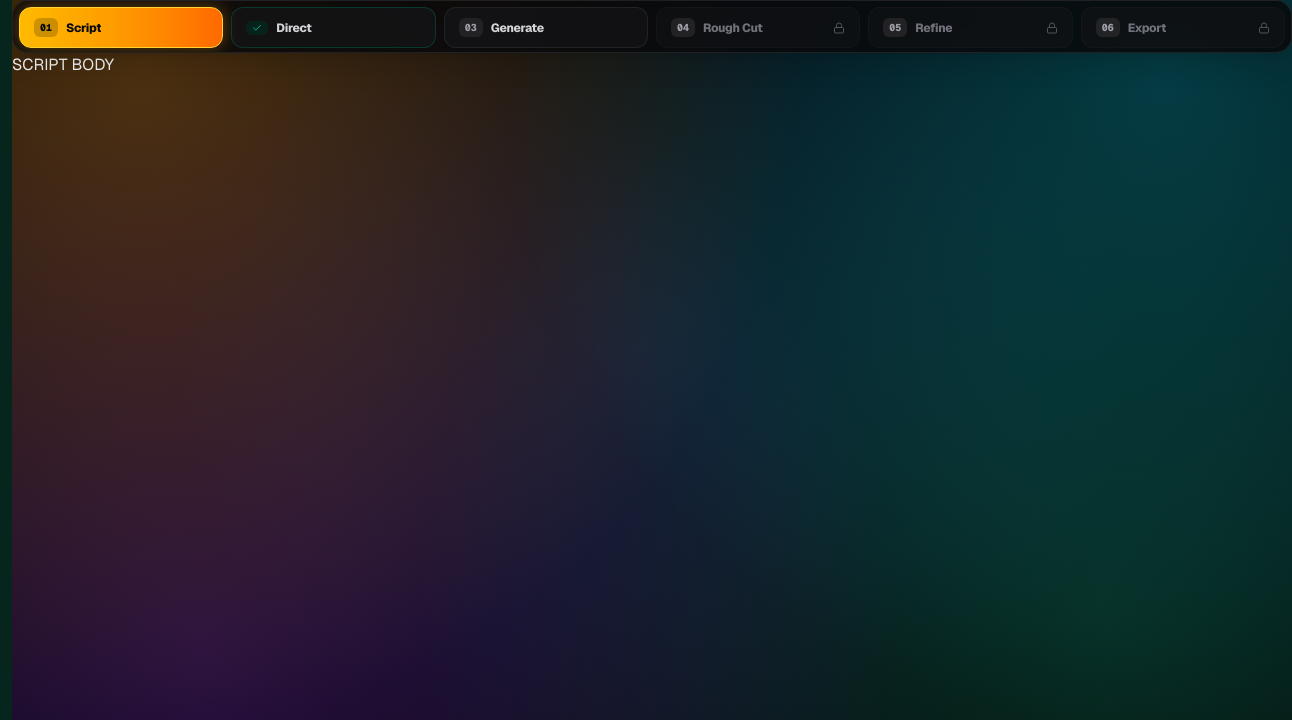
Test case: the stage nav, driven by real React click events › clicking Export renders the Export branch too
The image size is (1292, 720).
Step 1. Click the button "06 Export" → click(1183, 28), box [1081,7,1285,48]
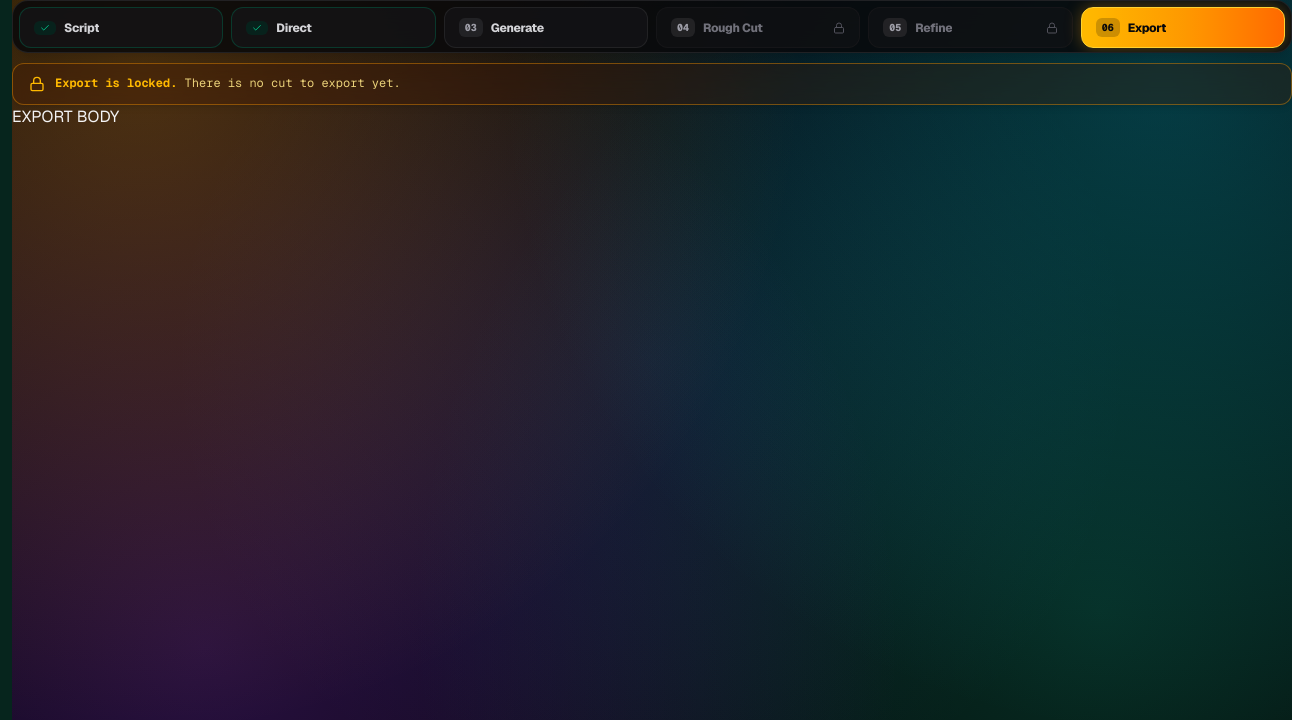
Expected: the text with test id "stage-body" reads "EXPORT BODY", [12,106,119,126]
